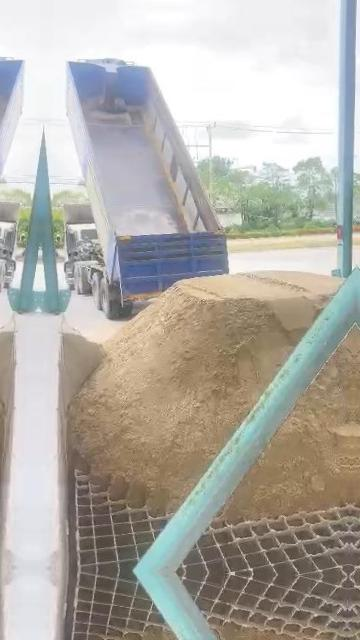sand: (70, 272, 340, 512), (225, 331, 356, 520), (59, 322, 102, 417)
